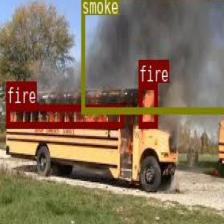fire: (6, 103, 123, 127), (138, 82, 157, 126)
smoke: (81, 0, 224, 112)
